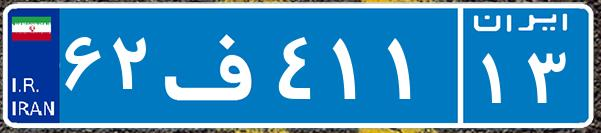1: (385, 28, 445, 110), (330, 28, 385, 110), (475, 38, 525, 113)
2: (110, 28, 158, 105)
3: (525, 38, 570, 115)
4: (273, 28, 330, 110)
6: (57, 26, 110, 107)
ف: (158, 15, 273, 115)
